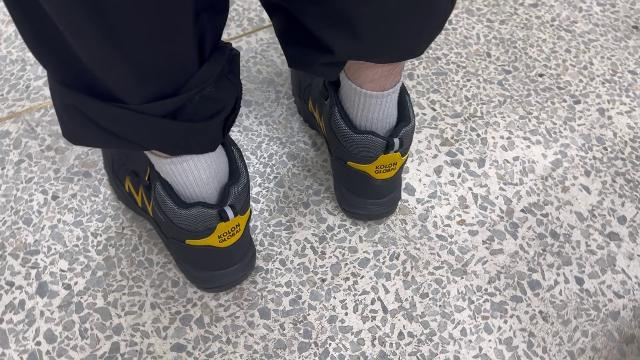shoe_worn: (102, 136, 261, 296), (290, 54, 420, 218)
